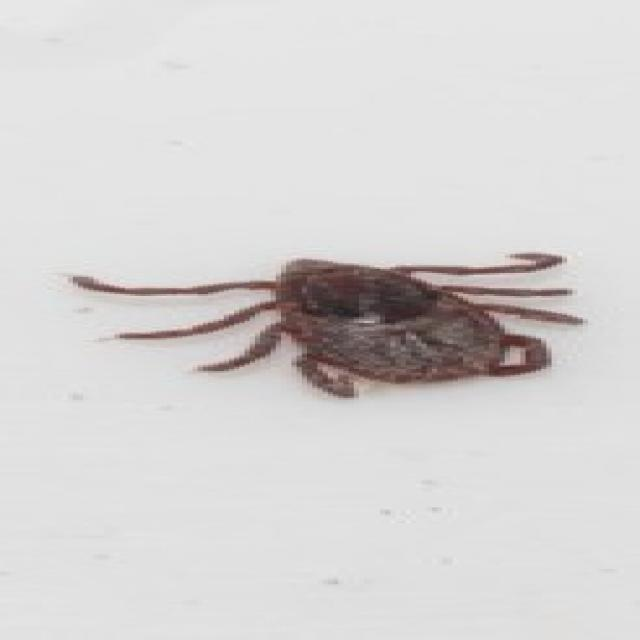Rhipicephalus Sanguineus-F: (68, 252, 588, 402)
